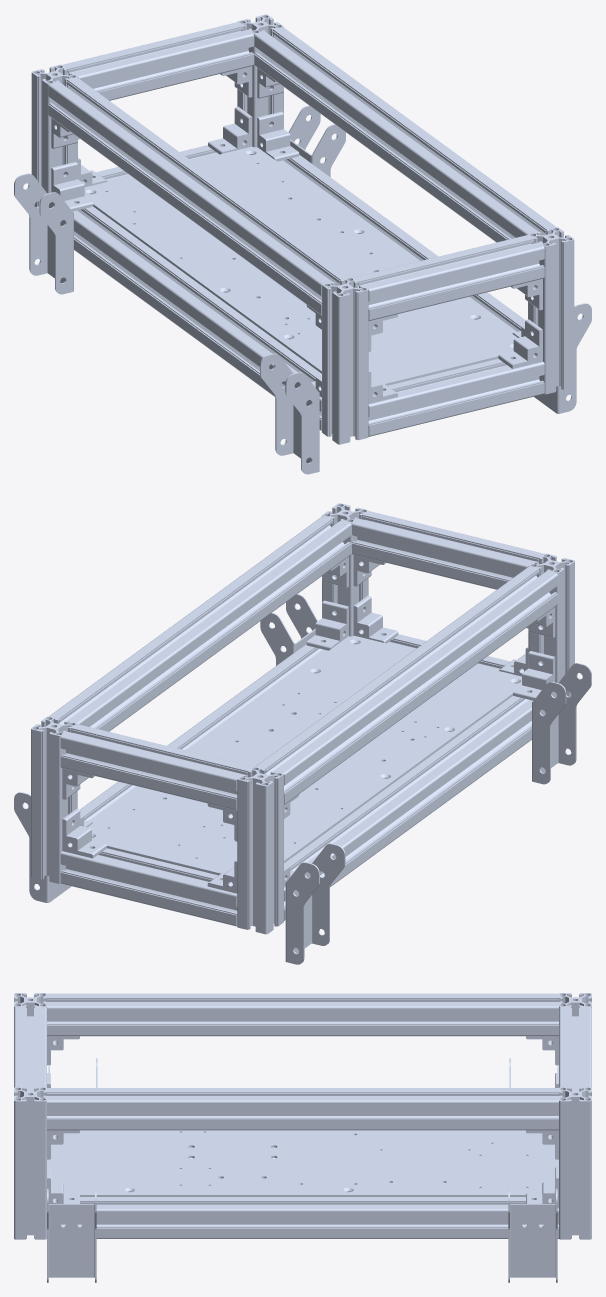
Rendered from chassis-4040.glb.
3 views of the same model, one above another, from view 1: azimuth 30°, elevation 25°; view 2: azimuth 150°, elevation 25°; view 3: azimuth 270°, elevation 25° (orthographic). The views are drawn at different scales.
Parts seen in each view (by area): view 1: Custom_Plate_V2-1, UGV_23sep, 40x40_AluBeam_620mm-2, 40x40_AluBeam_620mm-3, Chassis Bracket-1 (×4), 40x40_AluBeam_620mm-4, 40x40_AluBeam_220mm-1, 40x40_AluBeam_220mm-2, 40x40_AluBeam_185mm-1, 40x40_AluBeam_185mm-2, 40x40_AluBeam_620mm-1, 40x40_Bracket-29 (+1 smaller); view 2: UGV_23sep, Custom_Plate_V2-1, 40x40_AluBeam_620mm-2, 40x40_AluBeam_620mm-3, Chassis Bracket-1 (×4), 40x40_AluBeam_620mm-4, 40x40_AluBeam_220mm-1, 40x40_AluBeam_620mm-1, 40x40_AluBeam_185mm-1, 40x40_AluBeam_185mm-2, 40x40_Bracket-31, 40x40_Bracket-7 (+1 smaller); view 3: Custom_Plate_V2-1, 40x40_AluBeam_620mm-2, 40x40_AluBeam_620mm-3, 40x40_AluBeam_620mm-1, UGV_23sep, Chassis Bracket-1 (×2), 40x40_AluBeam_185mm-2, 40x40_AluBeam_220mm-1, 40x40_Bracket-29, 40x40_AluBeam_185mm-1.
Part boxes in pixels (<box>): Custom_Plate_V2-1: <box>84,146,517,385</box>; UGV_23sep: <box>31,14,542,403</box>; 40x40_AluBeam_620mm-2: <box>48,77,349,315</box>; 40x40_AluBeam_620mm-3: <box>254,27,556,242</box>; Chassis Bracket-1 (×4): <box>14,105,591,474</box>; 40x40_AluBeam_620mm-4: <box>73,206,321,430</box>; 40x40_AluBeam_220mm-1: <box>353,235,544,320</box>; 40x40_AluBeam_220mm-2: <box>368,358,544,436</box>; 40x40_AluBeam_185mm-1: <box>322,277,368,444</box>; 40x40_AluBeam_185mm-2: <box>528,227,574,394</box>; 40x40_AluBeam_620mm-1: <box>277,155,525,333</box>; 40x40_Bracket-29: <box>257,111,299,161</box>; UGV_23sep: <box>31,555,555,934</box>; Custom_Plate_V2-1: <box>87,635,521,875</box>; 40x40_AluBeam_620mm-2: <box>256,566,558,804</box>; 40x40_AluBeam_620mm-3: <box>49,516,351,731</box>; Chassis Bracket-1 (×4): <box>14,594,591,964</box>; 40x40_AluBeam_620mm-4: <box>284,696,533,920</box>; 40x40_AluBeam_220mm-1: <box>352,511,544,589</box>; 40x40_AluBeam_620mm-1: <box>80,644,328,822</box>; 40x40_AluBeam_185mm-1: <box>528,553,574,696</box>; 40x40_AluBeam_185mm-2: <box>322,503,368,636</box>; 40x40_Bracket-31: <box>513,651,555,700</box>; 40x40_Bracket-7: <box>353,595,398,643</box>; Custom_Plate_V2-1: <box>47,1130,558,1196</box>; 40x40_AluBeam_620mm-2: <box>47,993,558,1036</box>; 40x40_AluBeam_620mm-3: <box>47,1088,558,1130</box>; 40x40_AluBeam_620mm-1: <box>61,1197,558,1238</box>; UGV_23sep: <box>47,993,591,1239</box>; Chassis Bracket-1 (×2): <box>47,1188,557,1282</box>; 40x40_AluBeam_185mm-2: <box>14,1087,46,1239</box>; 40x40_AluBeam_220mm-1: <box>14,1007,46,1091</box>; 40x40_Bracket-29: <box>526,1167,558,1208</box>; 40x40_AluBeam_185mm-1: <box>14,993,46,1016</box>.
Size of the model in its own units: 0.4 by 0.235 by 0.7.
